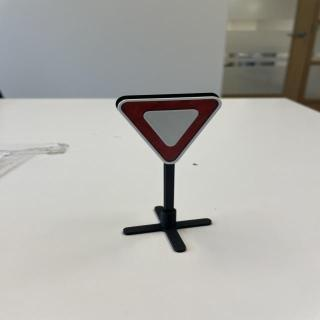sign_yield: (116, 94, 229, 168)
